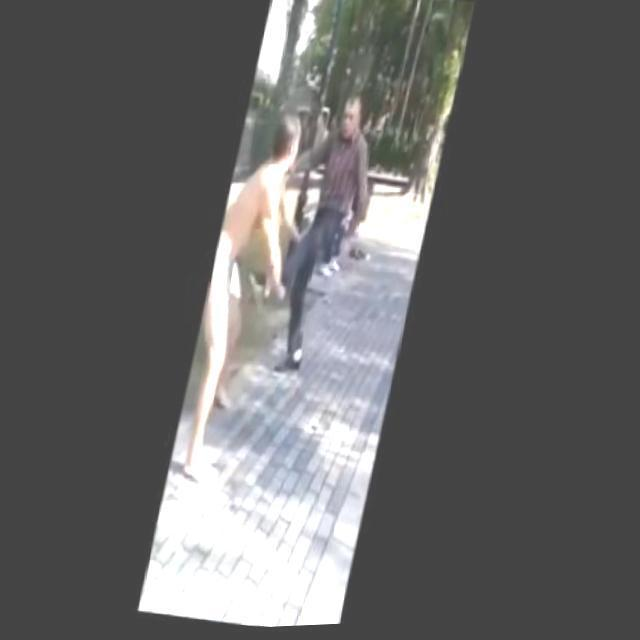fight: (188, 82, 395, 495)
